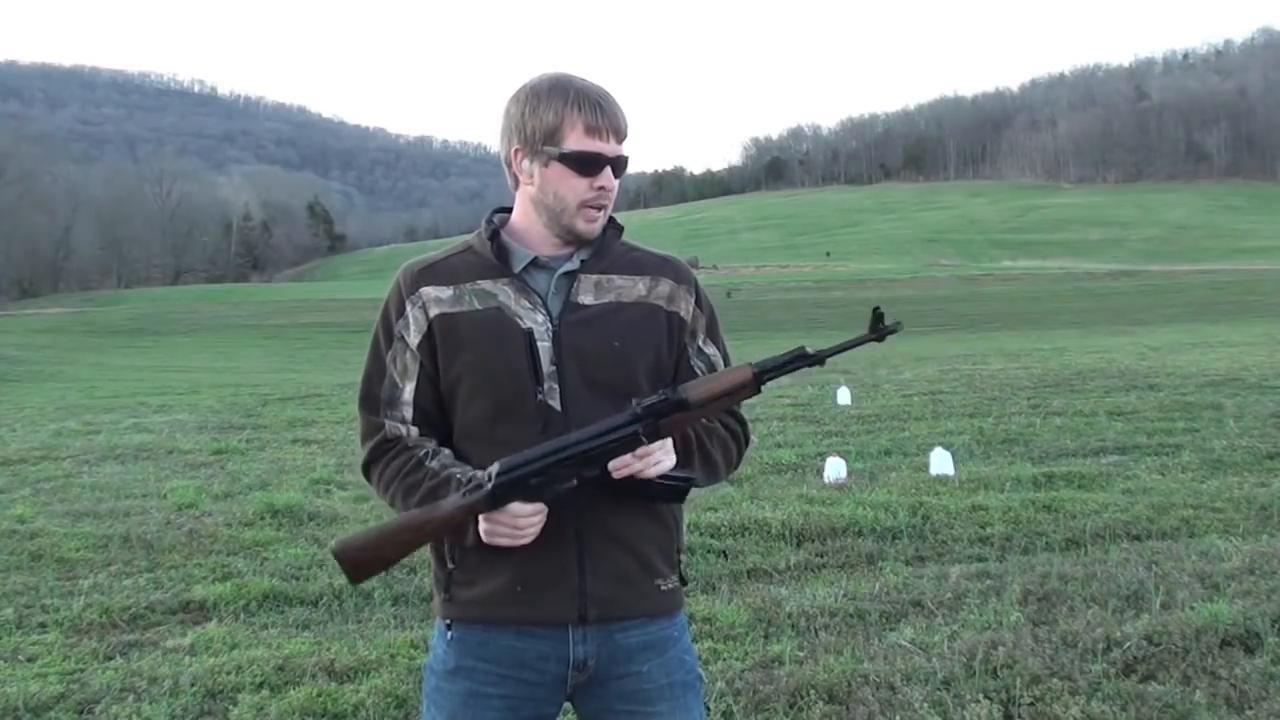AK47 Rifle: (331, 306, 904, 593)
